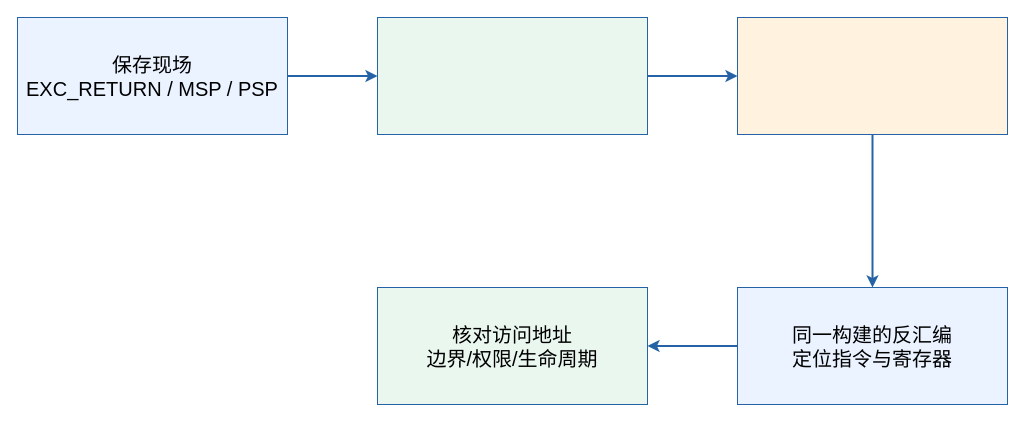
The diagram is 1025 pixels wide and 422 high, and some of its shapes have lost their labels. Each missing label, with the centre of its shape:
"判断异常前所用栈 定位硬件异常帧" goes at (x=512, y=75).
"读取 stacked PC 同时保存故障状态" goes at (x=872, y=75).
